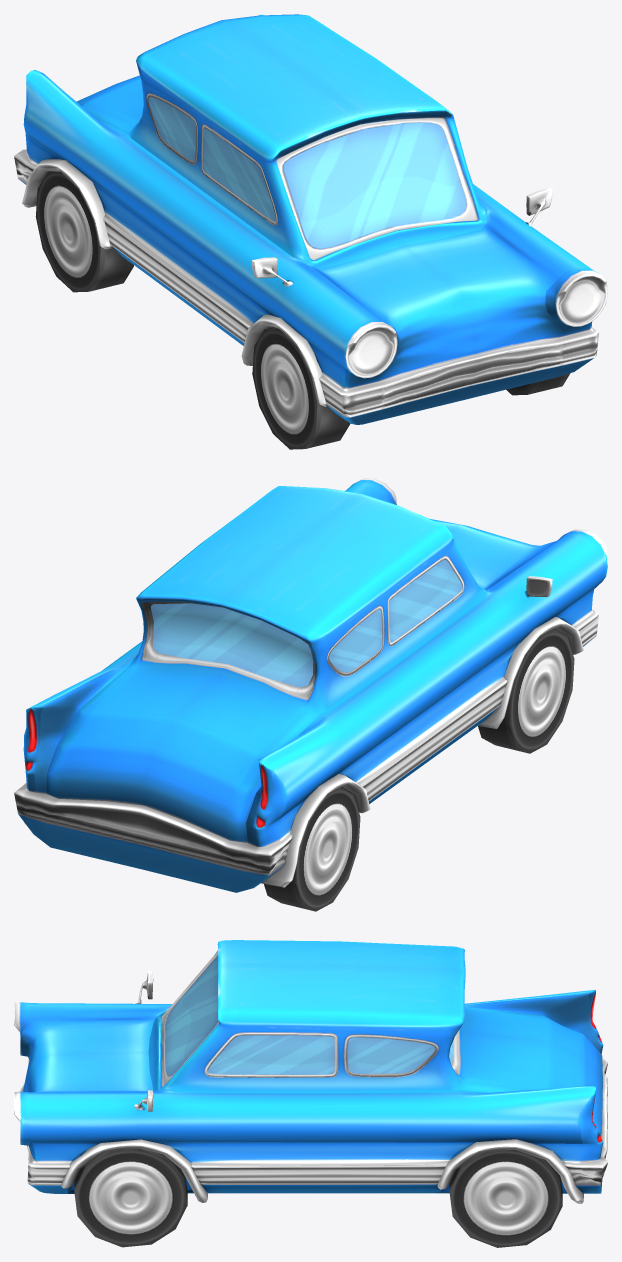
File: obj_car02.gltf
The picture shows the model from 3 angles, top to bottom: view 1: azimuth 30°, elevation 25°; view 2: azimuth 150°, elevation 25°; view 3: azimuth 270°, elevation 25°; orthographic projection. The views are drawn at different scales.
Parts seen in each view (by area): view 1: obj_car02; view 2: obj_car02; view 3: obj_car02.
Part boxes in pixels (x1,y1,x2,y2): obj_car02: [14, 14, 607, 449]; obj_car02: [14, 478, 607, 911]; obj_car02: [14, 940, 607, 1247].
Size of what is drawn, in the model's own units: 0.9878 by 0.8236 by 1.94.
1 material, 1 textured.
